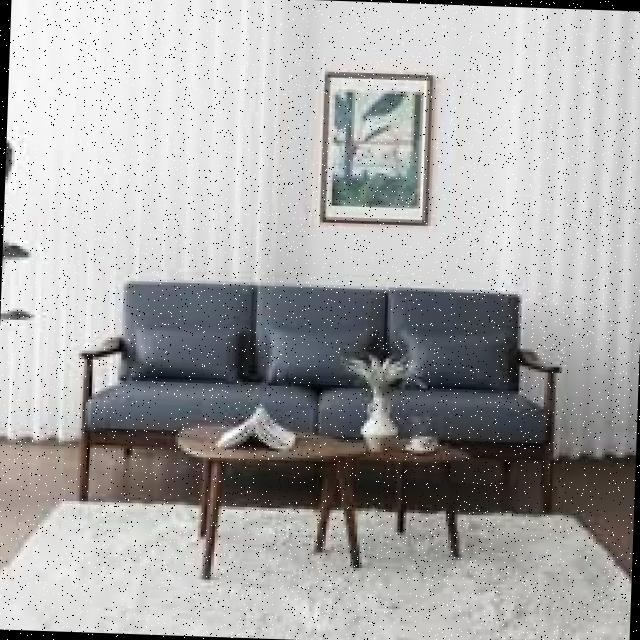Sofa: (42, 256, 612, 554)
